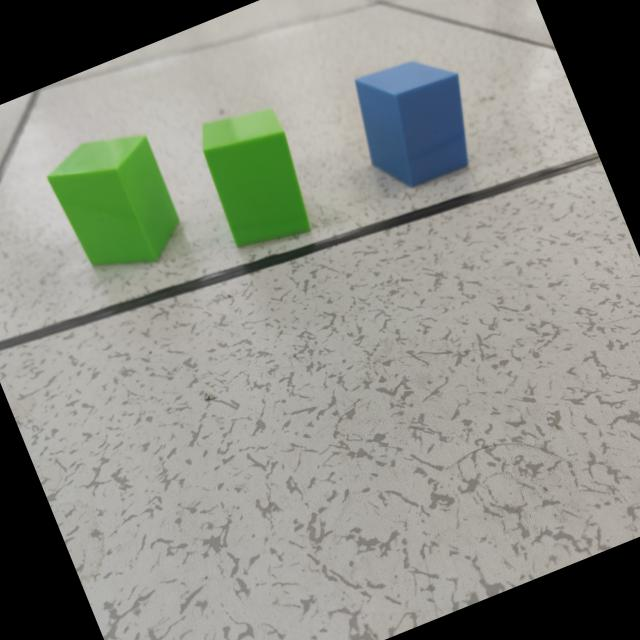blue: (355, 61, 470, 189)
green: (47, 135, 180, 268), (201, 109, 310, 249)
